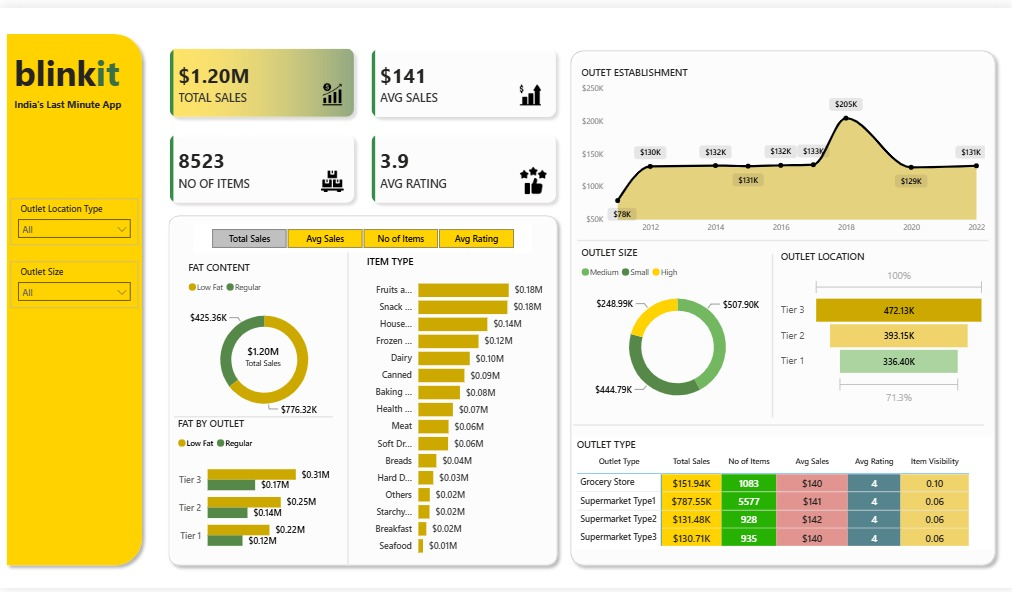

Layout of this report page (visuals, bound fields, positions):
{"tool":"powerbi","page":{"name":"Blinkit Dashboard","canvas":[1400,800],"ordinal":0},"visuals":[{"type":"shape","box":[0,26.9,204.6,750.3],"z":0},{"type":"textbox","box":[14.5,49.6,177.8,88.9],"z":1000},{"type":"textbox","box":[14.5,117.8,175.7,41.3],"z":2000},{"type":"cardVisual","fields":{"Data":["BlinkIT Grocery Data.Total Sales","BlinkIT Grocery Data.Avg Sales","BlinkIT Grocery Data.No of Items","BlinkIT Grocery Data.Avg Rating"]},"box":[204.6,26.9,591.1,270.8],"z":3000},{"type":"image","box":[442.3,99.2,31,39.3],"z":4000},{"type":"image","box":[715.2,99.2,31,41.3],"z":5000},{"type":"image","box":[442.3,219.1,31,39.3],"z":6000},{"type":"image","box":[715.2,219.1,39.3,37.2],"z":7000},{"type":"shape","box":[223.2,277,553.9,500.2],"z":8000},{"type":"donutChart","title":"FAT CONTENT","fields":{"Y":["BlinkIT Grocery Data.Total Sales"],"Category":["BlinkIT Grocery Data.Item Fat Content"]},"box":[254.2,347.2,219.1,229.4],"z":9000},{"type":"slicer","fields":{"Values":["Metrics.Metrics"]},"box":[266.6,297.6,465.1,39.3],"z":10000},{"type":"cardVisual","fields":{"Data":["BlinkIT Grocery Data.Total Sales"]},"box":[305.9,446.5,113.7,66.1],"z":11000},{"type":"clusteredBarChart","title":"FAT BY OUTLET","fields":{"Y":["BlinkIT Grocery Data.Total Sales"],"Category":["BlinkIT Grocery Data.Outlet Location Type"],"Series":["BlinkIT Grocery Data.Item Fat Content"]},"box":[239.8,562.2,219.1,200.5],"z":12000},{"type":"shape","box":[239.8,551.9,219.1,22.7],"z":13000},{"type":"shape","box":[473.3,336.9,12.4,432],"z":14000},{"type":"barChart","title":"ITEM TYPE","fields":{"Y":["BlinkIT Grocery Data.Total Sales"],"Category":["BlinkIT Grocery Data.Item Type"]},"box":[500.2,339,252.2,425.8],"z":15000},{"type":"shape","box":[777.2,49.6,603.5,727.6],"z":16000},{"type":"lineChart","title":"OUTET ESTABLISHMENT","fields":{"Category":["BlinkIT Grocery Data.Outlet Establishment Year"],"Y":["BlinkIT Grocery Data.Total Sales"]},"box":[795.8,78.5,566.3,239.8],"z":17000},{"type":"donutChart","title":"OUTLET SIZE","fields":{"Y":["BlinkIT Grocery Data.Total Sales"],"Category":["BlinkIT Grocery Data.Outlet Size"]},"box":[795.8,326.6,274.9,235.6],"z":18000},{"type":"shape","box":[1058.3,339,12.4,225.3],"z":19000},{"type":"funnel","title":"OUTLET LOCATION","fields":{"Category":["BlinkIT Grocery Data.Outlet Location Type"],"Y":["Sum(BlinkIT Grocery Data.Sales)"]},"box":[1070.7,332.8,291.4,219.1],"z":20000},{"type":"shape","box":[795.8,308,566.3,24.8],"z":21000},{"type":"shape","box":[789.6,562.2,566.3,24.8],"z":22000},{"type":"pivotTable","title":"OUTLET TYPE ","fields":{"Rows":["BlinkIT Grocery Data.Outlet Type"],"Values":["BlinkIT Grocery Data.Total Sales","BlinkIT Grocery Data.No of Items","BlinkIT Grocery Data.Avg Sales","BlinkIT Grocery Data.Avg Rating","Avg(BlinkIT Grocery Data.Item Visibility)"]},"box":[789.6,591.1,578.7,155],"z":23000},{"type":"slicer","fields":{"Values":["BlinkIT Grocery Data.Outlet Location Type"]},"box":[14.5,262.5,175.7,64.1],"z":23001},{"type":"slicer","fields":{"Values":["BlinkIT Grocery Data.Outlet Size"]},"box":[14.5,349.3,175.7,64.1],"z":23002},{"type":"slicer","fields":{"Values":["BlinkIT Grocery Data.Item Type"]},"box":[16.5,429.9,175.7,64.1],"z":23003},{"type":"textbox","box":[16.5,217,175.7,41.3],"z":23004}]}

Visuals, with their boxes in screenshot pixels (x1, y1, x2, y2), scaled from the page's 1400x800 canvas onto the 1012x592 screenshot:
shape: locate(0, 20, 148, 575)
textbox: locate(10, 37, 139, 102)
textbox: locate(10, 87, 137, 118)
cardVisual - BlinkIT Grocery Data.Total Sales x BlinkIT Grocery Data.Avg Sales: locate(148, 20, 575, 220)
image: locate(320, 73, 342, 102)
image: locate(517, 73, 539, 104)
image: locate(320, 162, 342, 191)
image: locate(517, 162, 545, 190)
shape: locate(161, 205, 562, 575)
"FAT CONTENT" donutChart: locate(184, 257, 342, 427)
slicer - Metrics.Metrics: locate(193, 220, 529, 249)
cardVisual - BlinkIT Grocery Data.Total Sales: locate(221, 330, 303, 379)
"FAT BY OUTLET" clusteredBarChart: locate(173, 416, 332, 564)
shape: locate(173, 408, 332, 425)
shape: locate(342, 249, 351, 569)
"ITEM TYPE" barChart: locate(362, 251, 544, 566)
shape: locate(562, 37, 998, 575)
"OUTET ESTABLISHMENT" lineChart: locate(575, 58, 985, 236)
"OUTLET SIZE" donutChart: locate(575, 242, 774, 416)
shape: locate(765, 251, 774, 418)
"OUTLET LOCATION" funnel: locate(774, 246, 985, 408)
shape: locate(575, 228, 985, 246)
shape: locate(571, 416, 980, 434)
"OUTLET TYPE " pivotTable: locate(571, 437, 989, 552)
slicer - BlinkIT Grocery Data.Outlet Location Type: locate(10, 194, 137, 242)
slicer - BlinkIT Grocery Data.Outlet Size: locate(10, 258, 137, 306)
slicer - BlinkIT Grocery Data.Item Type: locate(12, 318, 139, 366)
textbox: locate(12, 161, 139, 191)
